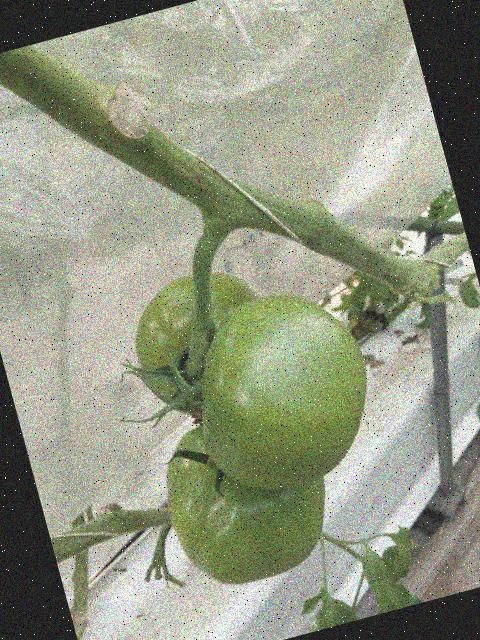b_green: (171, 275, 392, 508), (149, 398, 346, 599), (119, 259, 285, 427)
